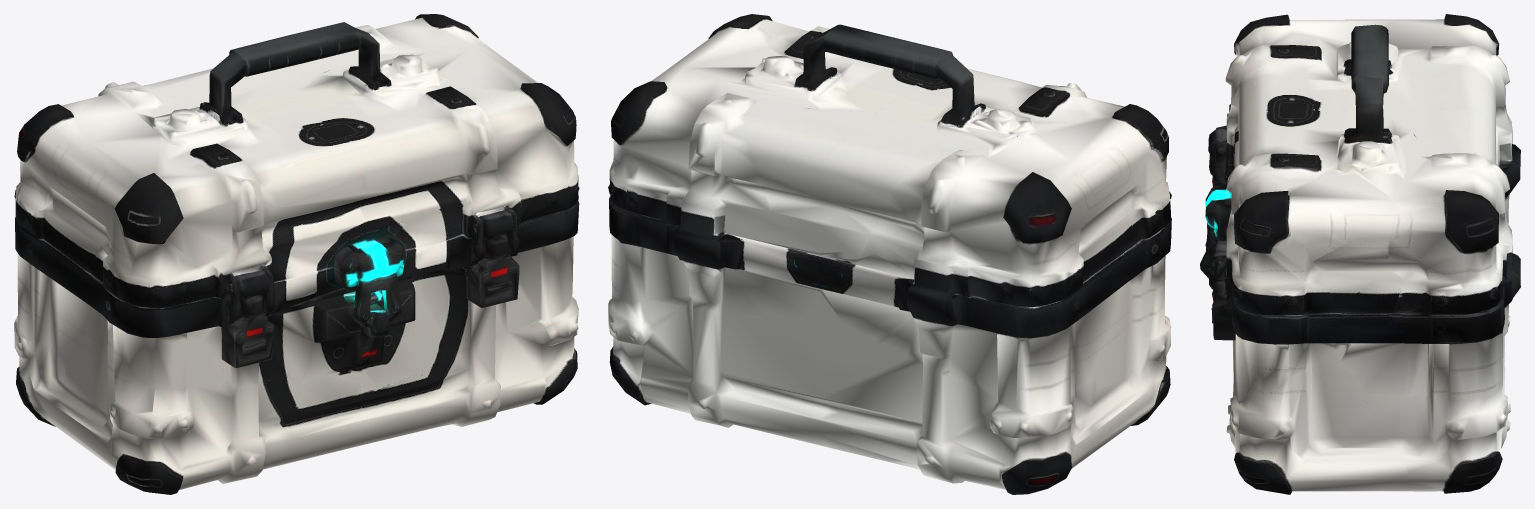
The model's file is Meshy_AI_Aether_Medkit_balanced.glb.
The picture shows the model from 3 angles, left to right: view 1: azimuth 30°, elevation 25°; view 2: azimuth 150°, elevation 25°; view 3: azimuth 270°, elevation 25°; orthographic projection. The views are drawn at different scales.
Size of the model in its own units: 1.9 by 1.46 by 1.2.
1 material, 1 textured.
